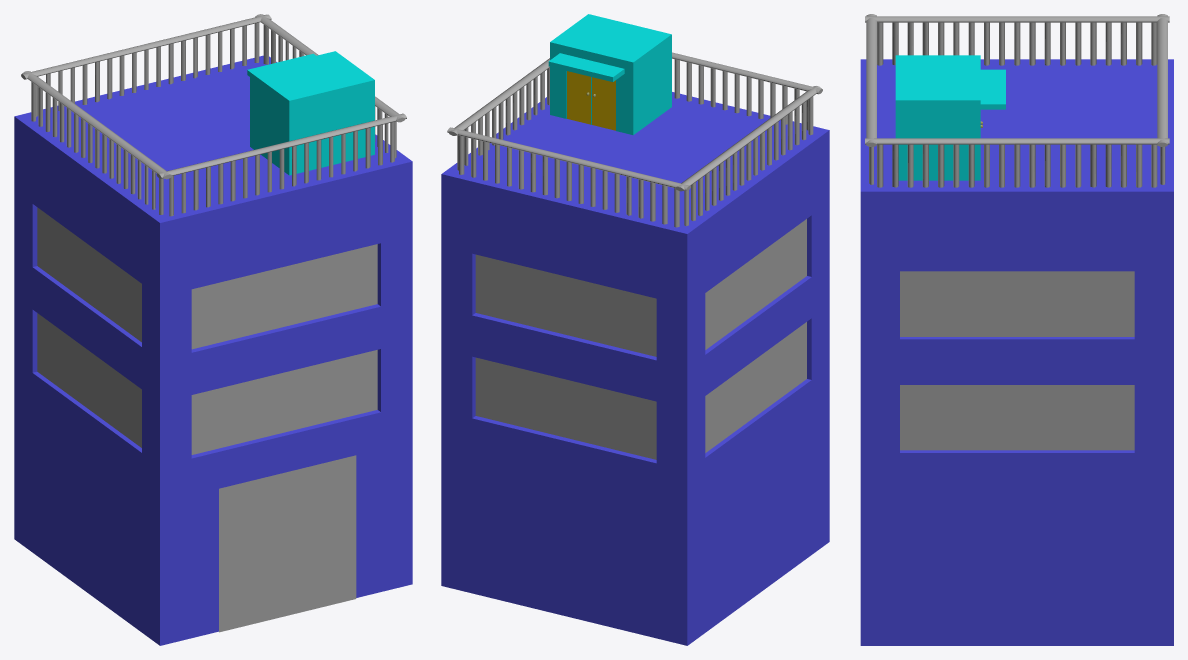
The model's file is ビル低n.fbx.
3 views of the same model, side by side, from view 1: azimuth 30°, elevation 25°; view 2: azimuth 150°, elevation 25°; view 3: azimuth 270°, elevation 25° (orthographic). The views are drawn at different scales.
Parts seen in each view (by area): view 1: bill, window_1, syoumen_door, fensu, window_3, okujou; view 2: bill, window_4, fensu, okujou, window_3; view 3: bill, window_2, fensu, okujou.
Part boxes in pixels (x1,y1,x2,y2): bill: (14, 55, 412, 645); window_1: (191, 244, 377, 454); syoumen_door: (219, 455, 356, 632); fensu: (21, 14, 406, 216); window_3: (37, 207, 141, 447); okujou: (247, 51, 374, 175); bill: (441, 92, 829, 645); window_4: (475, 254, 656, 459); fensu: (447, 52, 822, 227); okujou: (548, 14, 671, 135); window_3: (705, 219, 806, 452); bill: (860, 59, 1173, 645); window_2: (900, 271, 1134, 450); fensu: (865, 14, 1169, 187); okujou: (895, 55, 1005, 180).
Size of the model in its own units: 5 by 9.41 by 5.04.
